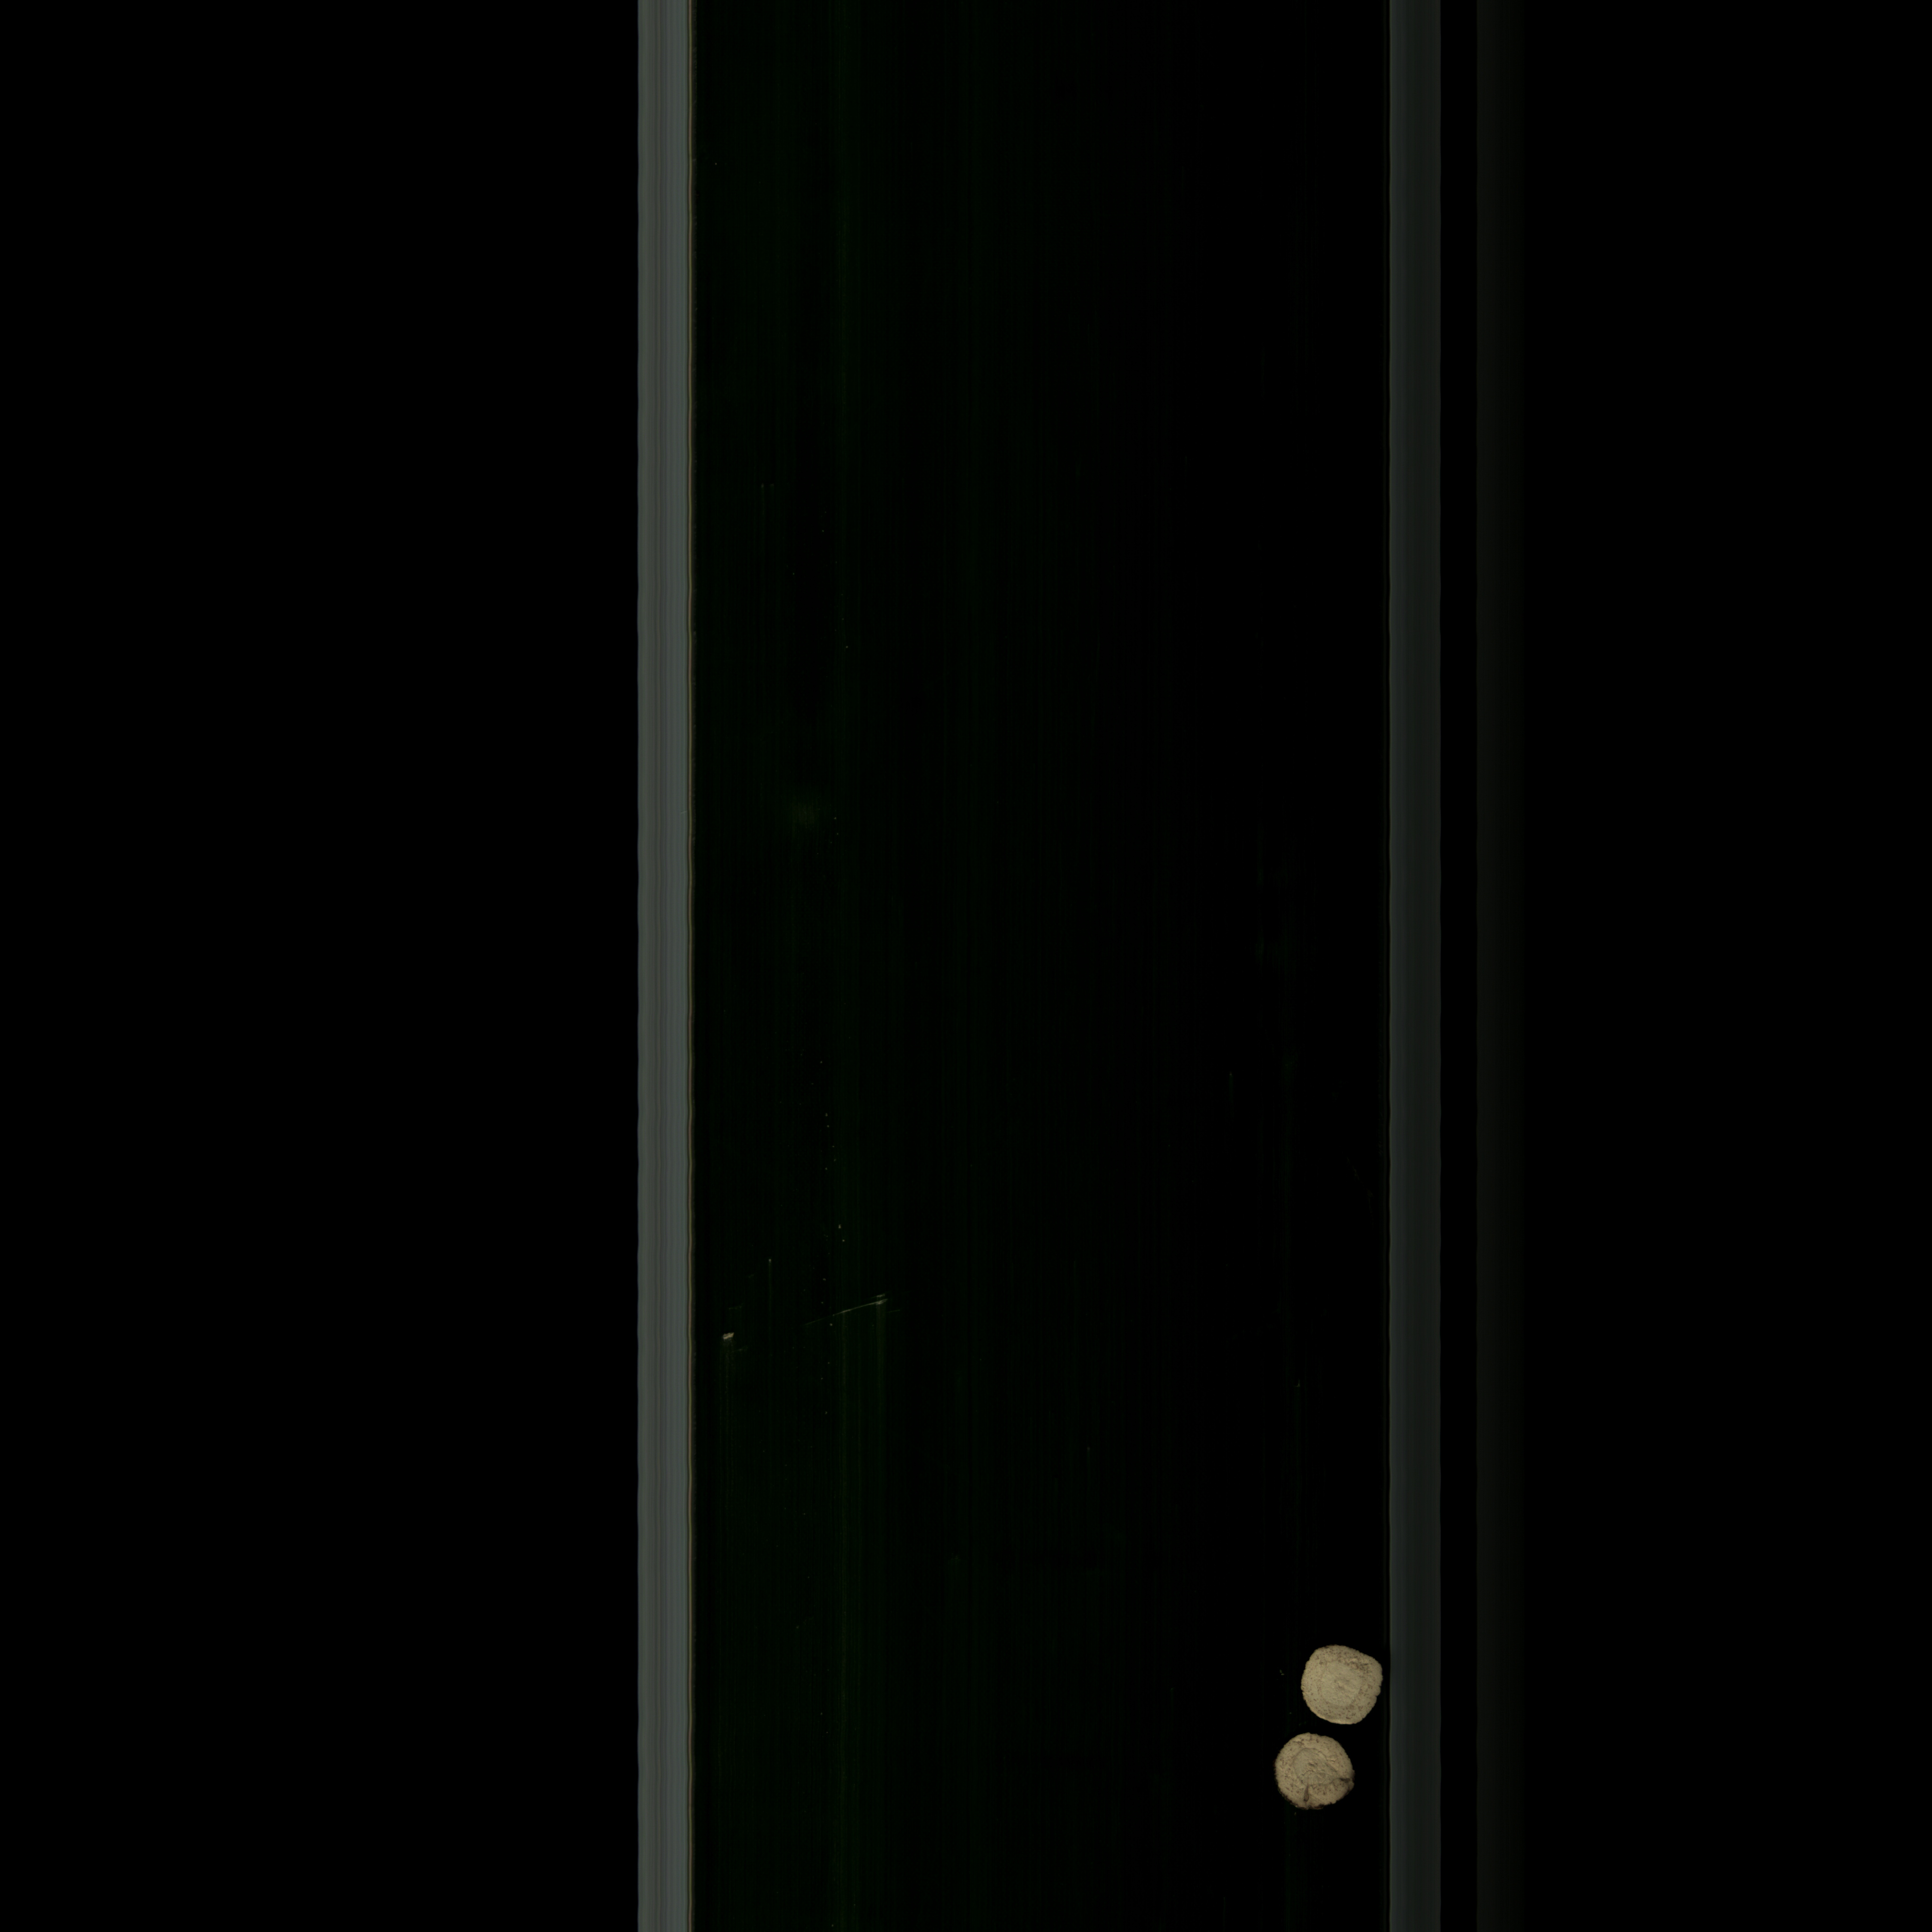hole: (1265, 1729, 1366, 1817)
